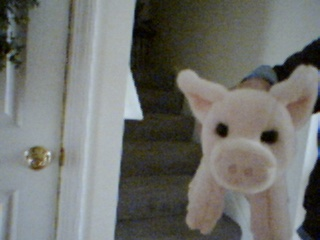piggy: (174, 63, 319, 239)
